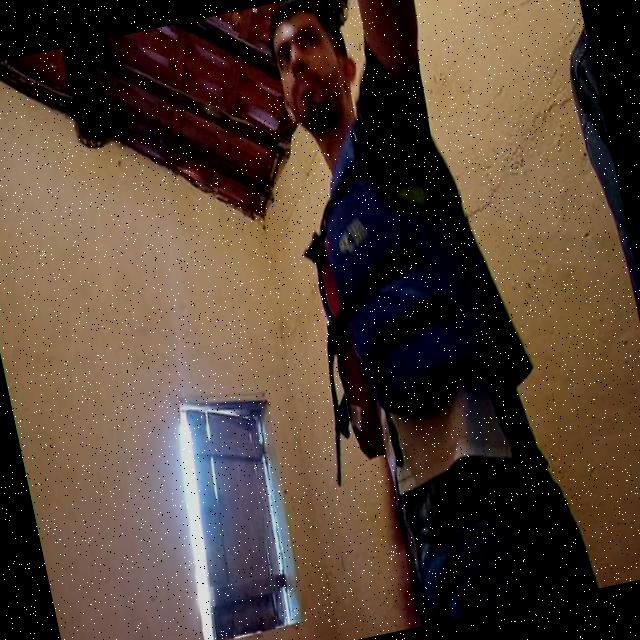colete: (288, 78, 530, 444)
pessoa: (261, 0, 568, 631)
